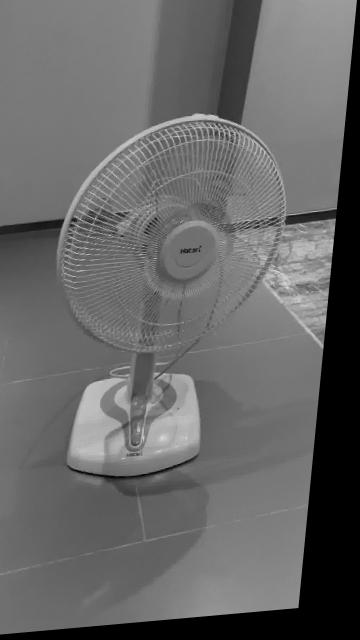Fan: (60, 118, 291, 483)
